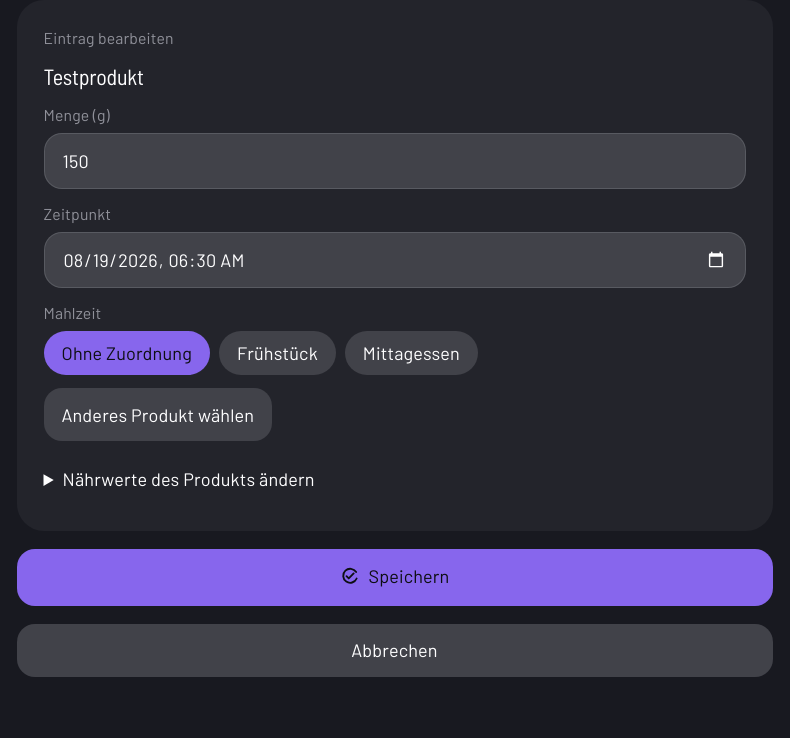
Test: FoodEntryEditForm › rejects an emptied zeitpunkt without throwing
Clear the field labelled "Zeitpunkt" at (394, 260), box [44, 232, 746, 288]
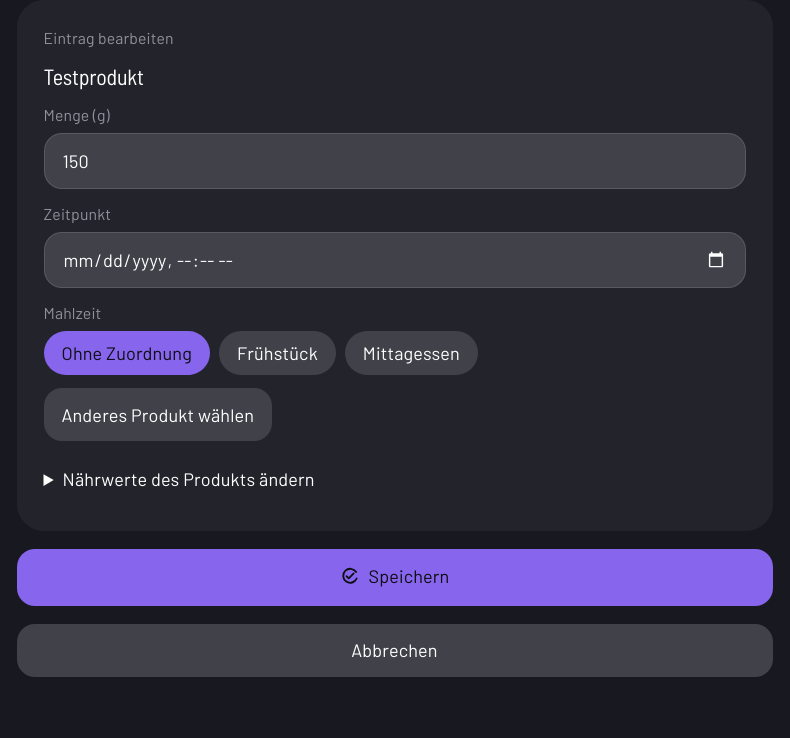
Click the button "Speichern" at (394, 577), box [16, 549, 772, 606]
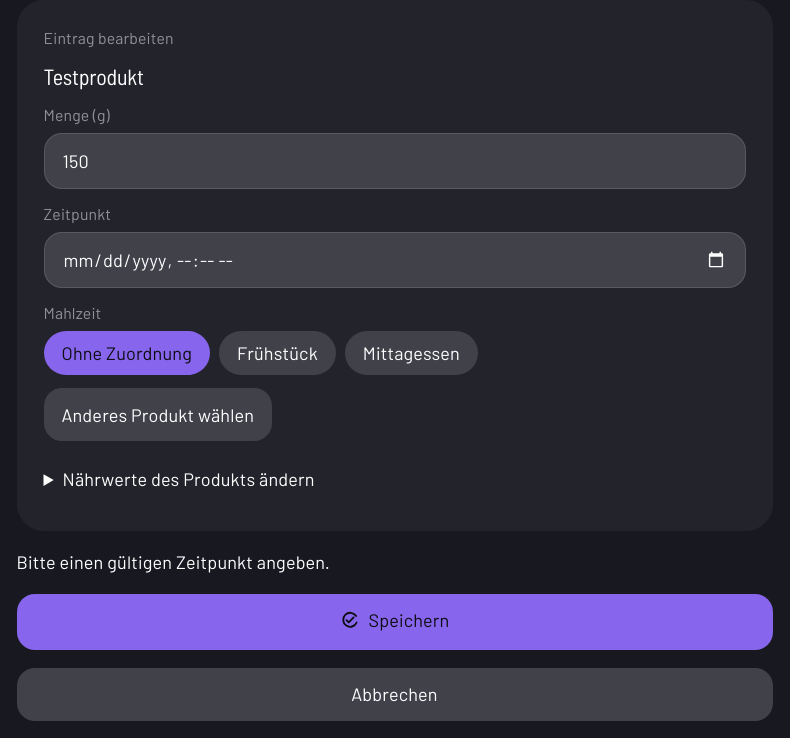
Result: the message shows "Zeitpunkt" at [16, 551, 330, 573]
